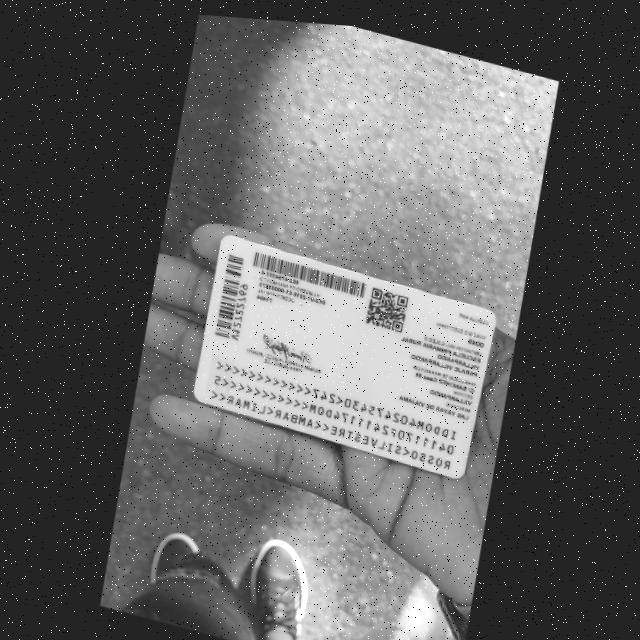card: (194, 236, 494, 478)
